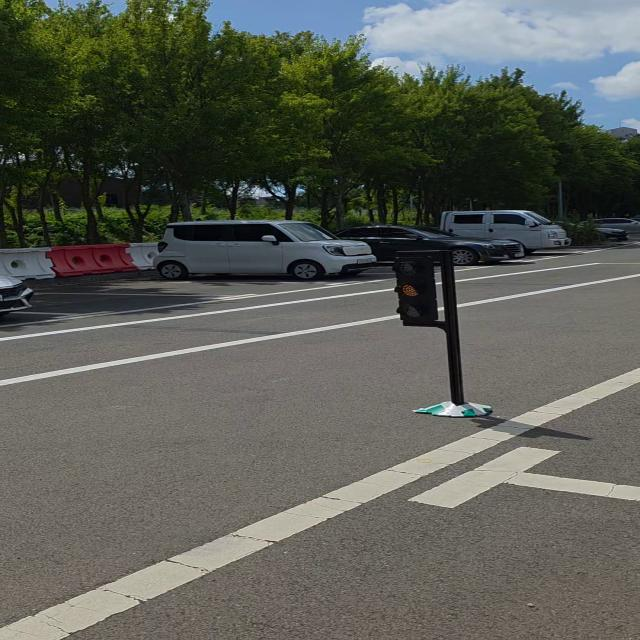yellow: (388, 251, 448, 330)
